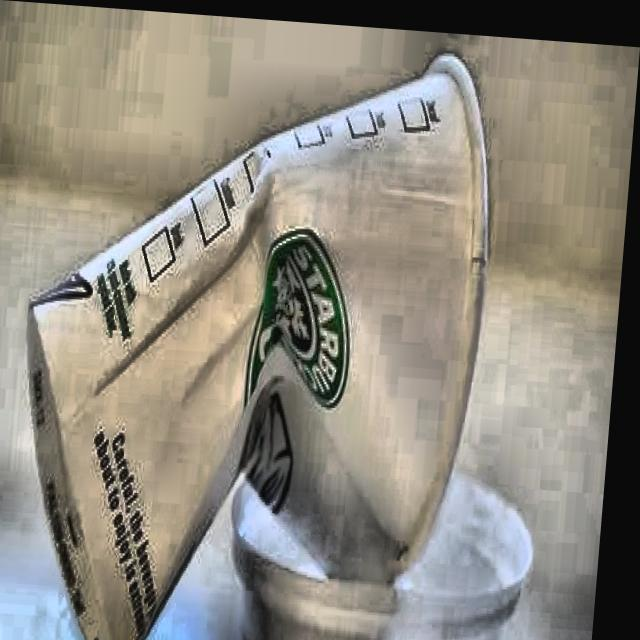Cup: (17, 19, 522, 640)
